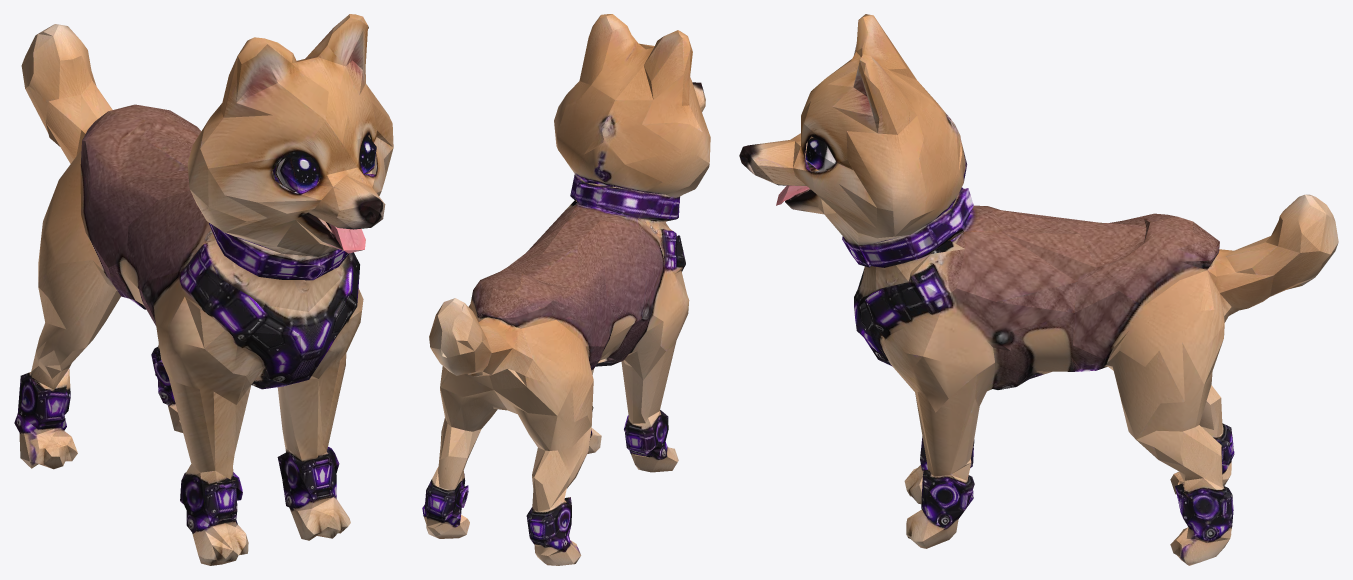
File: astrodog.glb
The picture shows the model from 3 angles, left to right: view 1: azimuth 30°, elevation 25°; view 2: azimuth 150°, elevation 25°; view 3: azimuth 270°, elevation 25°; orthographic projection. The views are drawn at different scales.
Visible parts, largest first — view 1: output_unwrapped; view 2: output_unwrapped; view 3: output_unwrapped.
Part boxes in pixels (box(x1,y1,x2,y2)): output_unwrapped: box(14, 14, 393, 565); output_unwrapped: box(422, 14, 710, 565); output_unwrapped: box(739, 14, 1338, 565).
Size of the model in its own units: 0.3276 by 0.8599 by 0.9492.
Materials: 1 (1 with a texture image).
